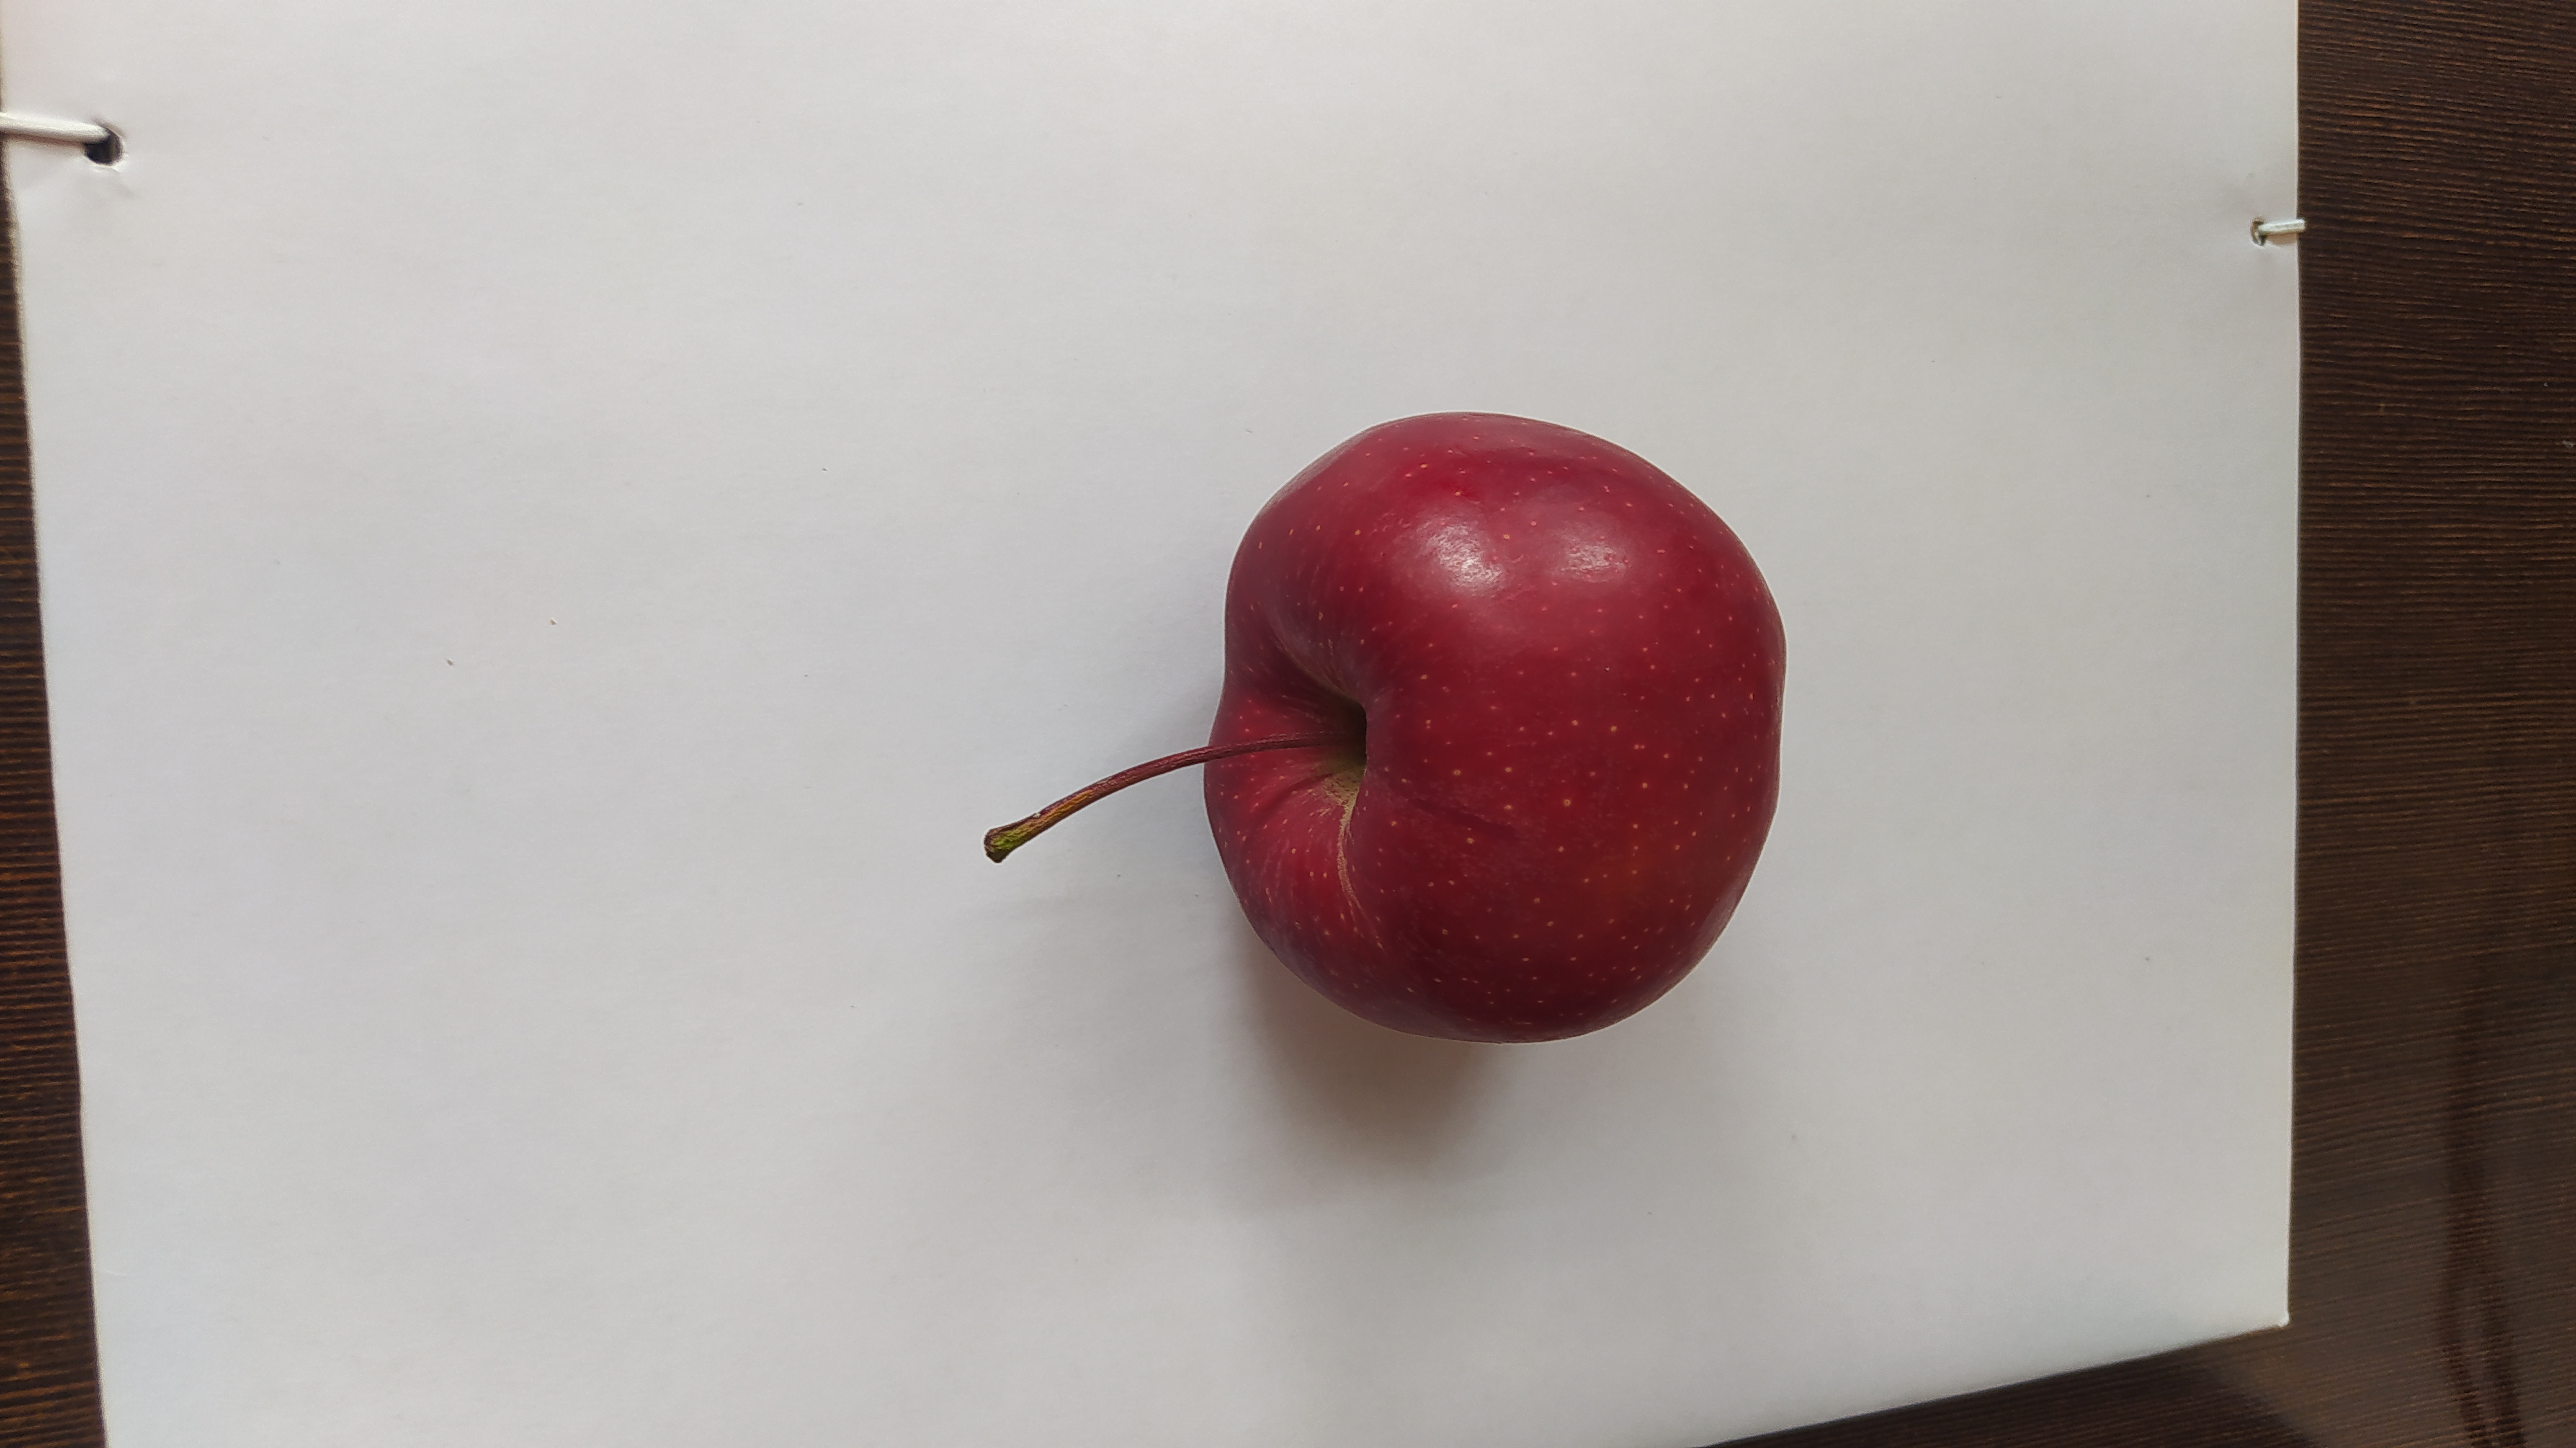apple: (1198, 411, 1783, 1043)
